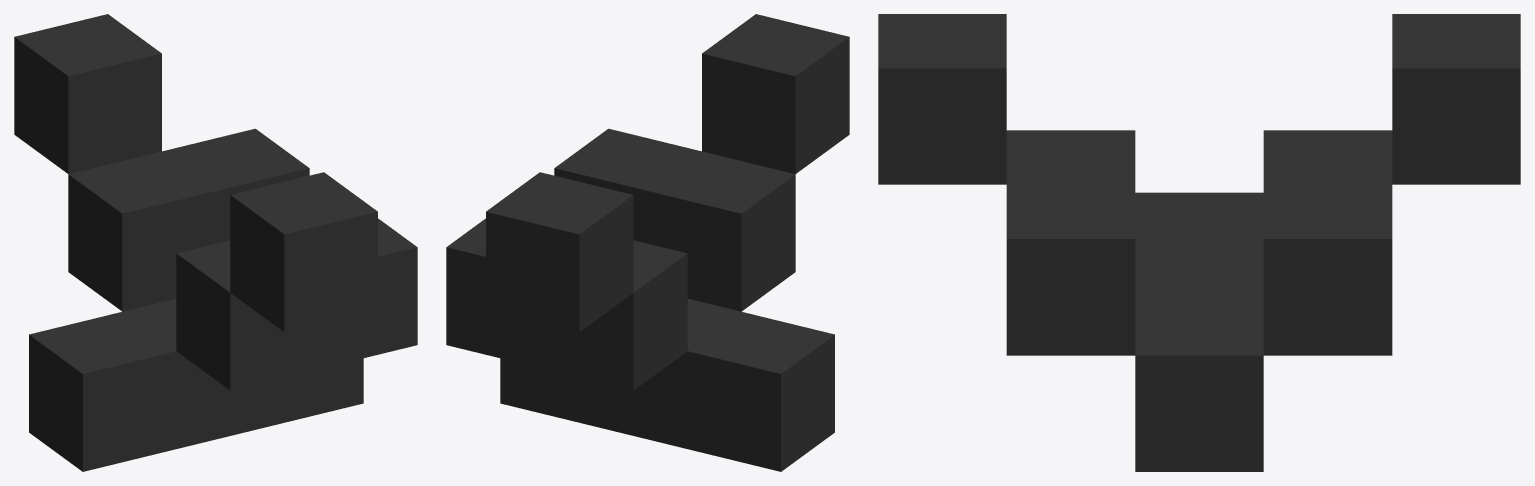
Rendered from bat-8-walk.obj.
The picture shows the model from 3 angles, left to right: view 1: azimuth 30°, elevation 25°; view 2: azimuth 150°, elevation 25°; view 3: azimuth 270°, elevation 25°; orthographic projection. The views are drawn at different scales.
Visible parts, largest first — view 1: walk; view 2: walk; view 3: walk.
Boxes of the visible parts, x1=… form: walk: x1=14, y1=14, x2=417, y2=471; walk: x1=446, y1=14, x2=849, y2=471; walk: x1=878, y1=14, x2=1520, y2=471.
Size of the model in its own units: 0.3 by 0.3 by 0.5.
Materials: 1 (1 with a texture image).
